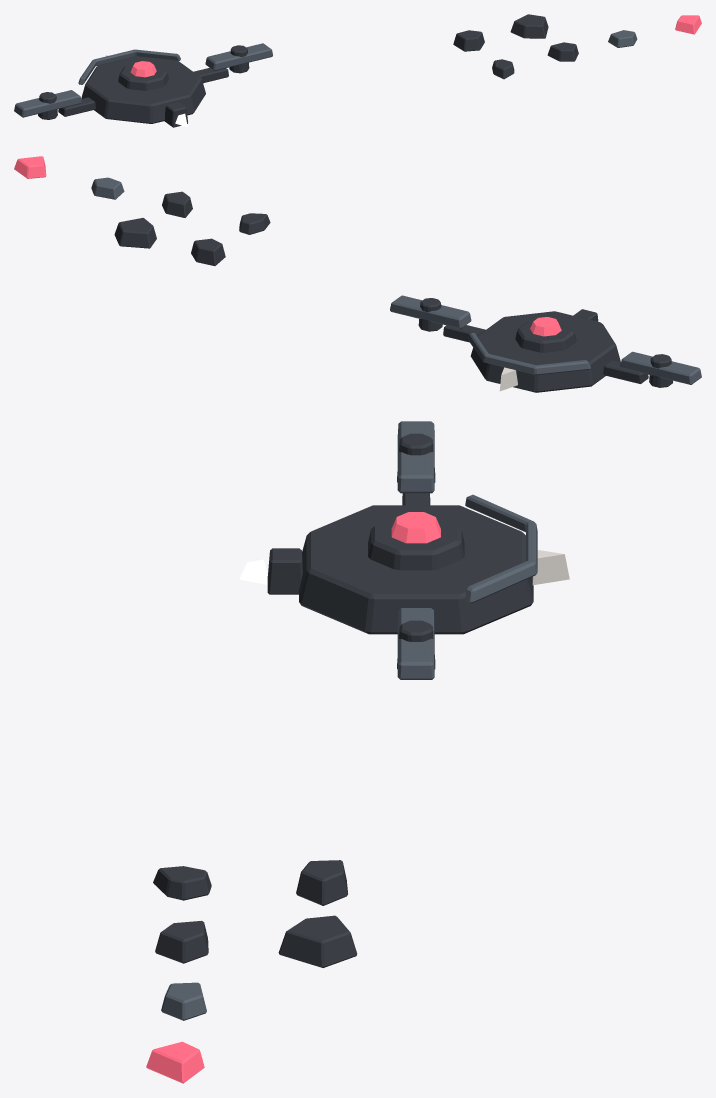
Rendered from Enemy_Drone_v4.fbx.
The picture shows the model from 3 angles, top to bottom: view 1: azimuth 30°, elevation 25°; view 2: azimuth 150°, elevation 25°; view 3: azimuth 270°, elevation 25°; orthographic projection. The views are drawn at different scales.
Parts seen in each view (by area): view 1: Ring, Rotor_R, Rotor_L, Hub, Trim_RingFront, Enemy_Drone_v4_Chunk_06, Enemy_Drone_v4_Chunk_05, Enemy_Drone_v4_Chunk_02, Enemy_Drone_v4_Chunk_04, Enemy_Drone_v4_Chunk_03, Arm_L, Thruster_Main (+5 smaller); view 2: Ring, Trim_RingFront, Rotor_L, Rotor_R, Hub, Enemy_Drone_v4_Chunk_06, Enemy_Drone_v4_Chunk_05, Enemy_Drone_v4_Chunk_02, Enemy_Drone_v4_Chunk_04, Enemy_Drone_v4_Chunk_03, Arm_L, Enemy_Drone_v4_Chunk_01 (+4 smaller); view 3: Ring, Hub, Enemy_Drone_v4_Chunk_06, Trim_RingFront, Rotor_L, Rotor_R, Enemy_Drone_v4_Chunk_05, Enemy_Drone_v4_Chunk_02, Enemy_Drone_v4_Chunk_04, Enemy_Drone_v4_Chunk_01, Thruster_Main, Enemy_Drone_v4_Chunk_03 (+2 smaller).
Part boxes in pixels (x1,y1,x2,y2): Ring: [81, 56, 205, 123]; Rotor_R: [205, 43, 272, 70]; Rotor_L: [14, 90, 81, 117]; Hub: [118, 64, 168, 90]; Trim_RingFront: [78, 49, 180, 84]; Enemy_Drone_v4_Chunk_06: [510, 14, 548, 38]; Enemy_Drone_v4_Chunk_05: [453, 30, 484, 51]; Enemy_Drone_v4_Chunk_02: [547, 42, 578, 61]; Enemy_Drone_v4_Chunk_04: [675, 15, 701, 34]; Enemy_Drone_v4_Chunk_03: [608, 30, 637, 47]; Arm_L: [58, 97, 95, 116]; Thruster_Main: [164, 102, 187, 127]; Ring: [470, 311, 620, 392]; Trim_RingFront: [467, 333, 590, 374]; Rotor_L: [620, 351, 701, 384]; Rotor_R: [390, 295, 471, 328]; Hub: [515, 320, 576, 352]; Enemy_Drone_v4_Chunk_06: [114, 218, 156, 248]; Enemy_Drone_v4_Chunk_05: [191, 238, 225, 265]; Enemy_Drone_v4_Chunk_02: [162, 191, 192, 217]; Enemy_Drone_v4_Chunk_04: [14, 156, 46, 178]; Enemy_Drone_v4_Chunk_03: [91, 177, 124, 199]; Arm_L: [603, 360, 648, 383]; Enemy_Drone_v4_Chunk_01: [239, 213, 270, 234]; Ring: [299, 505, 533, 634]; Hub: [368, 515, 464, 570]; Enemy_Drone_v4_Chunk_06: [278, 915, 357, 967]; Trim_RingFront: [465, 494, 537, 603]; Rotor_L: [397, 421, 434, 493]; Rotor_R: [397, 608, 434, 679]; Enemy_Drone_v4_Chunk_05: [296, 860, 347, 905]; Enemy_Drone_v4_Chunk_02: [155, 920, 208, 963]; Enemy_Drone_v4_Chunk_04: [146, 1041, 204, 1083]; Enemy_Drone_v4_Chunk_01: [153, 866, 211, 900]; Thruster_Main: [267, 548, 302, 594]; Enemy_Drone_v4_Chunk_03: [161, 982, 206, 1020].
Size of the model in its own units: 6.21 by 0.36 by 1.82.
